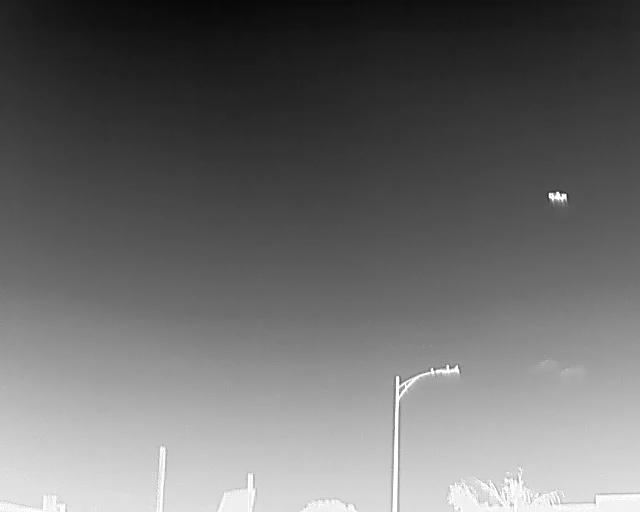fpv-drone: (547, 190, 568, 207)
